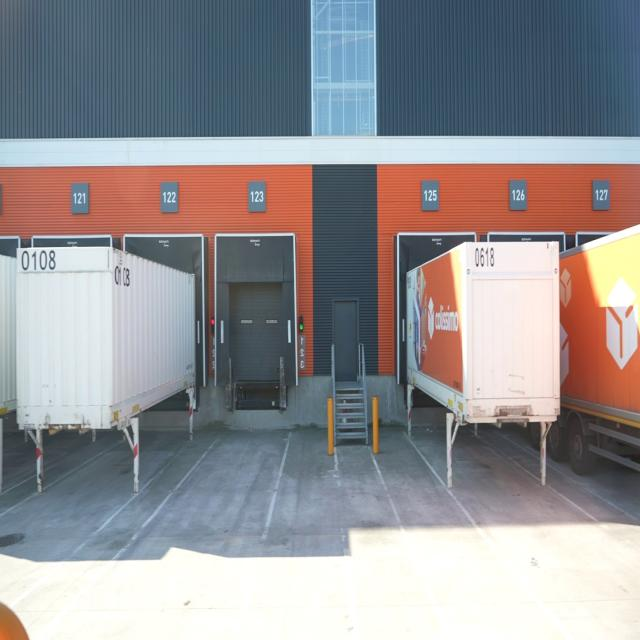Code: (19, 247, 57, 275), (471, 244, 497, 274)
